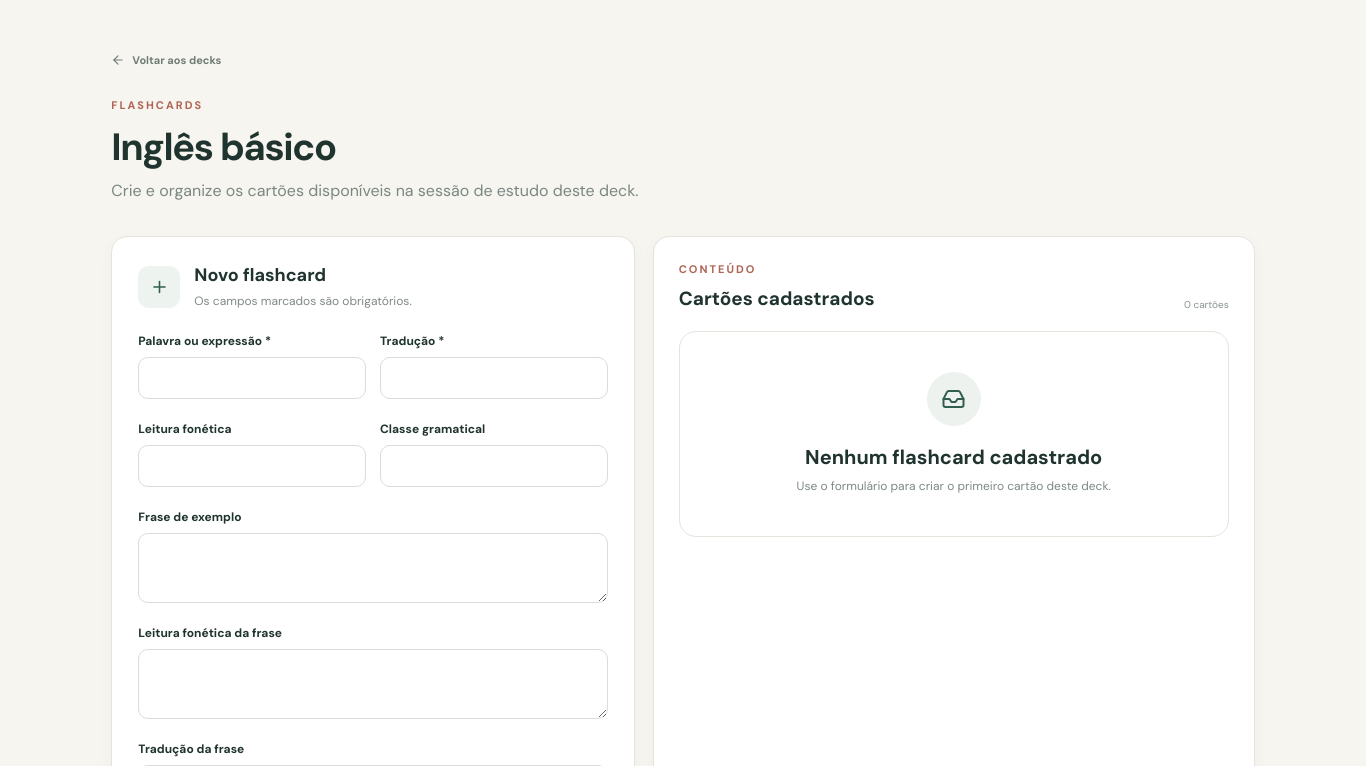
AdminFlashcardsPage › cria um flashcard e atualiza a lista
The image size is (1366, 766).
Expected: the heading "Inglês básico" is shown, 111,122 -> 336,172
In the field labelled "Palavra ou expressão *": (252, 378) 138,357 -> 366,399, type "hello"
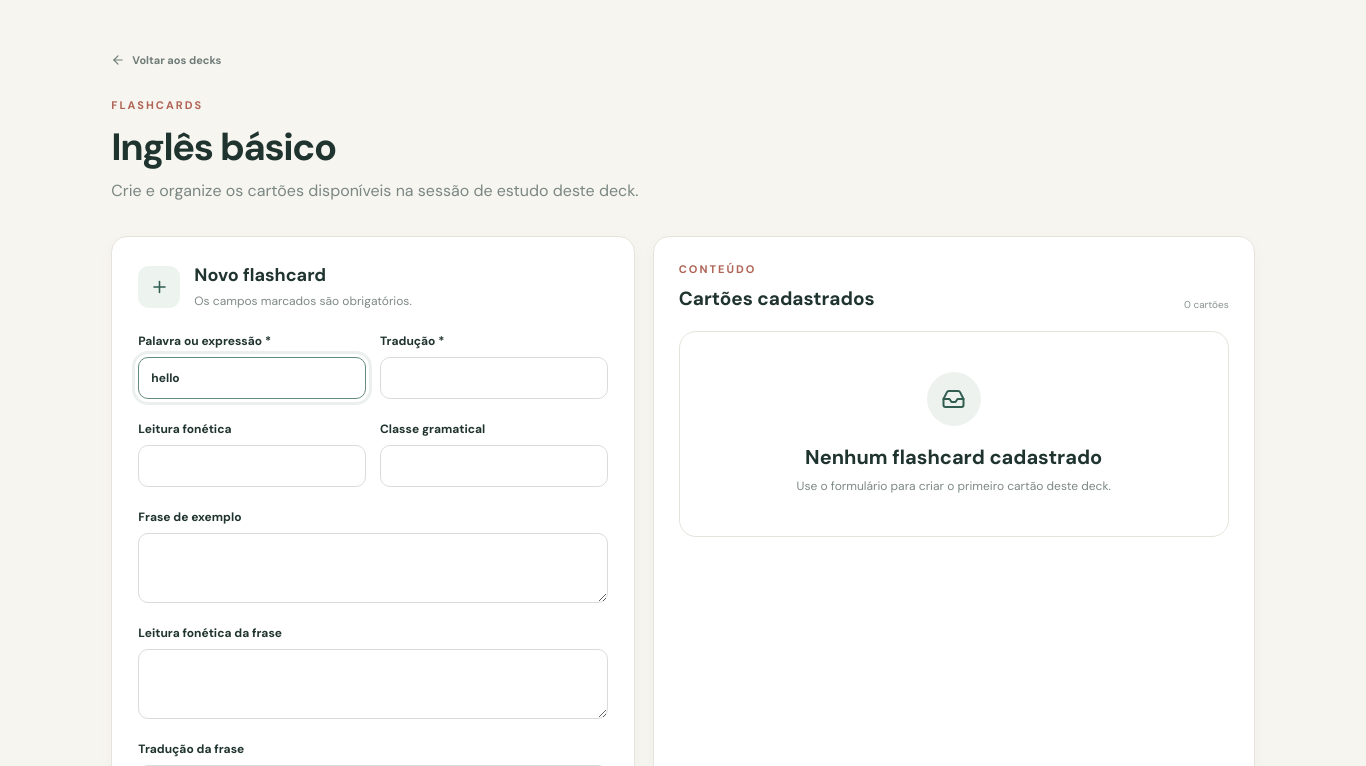
In the field labelled "Tradução *": (494, 378) 380,357 -> 608,399, type "olá"
(page scrolled)
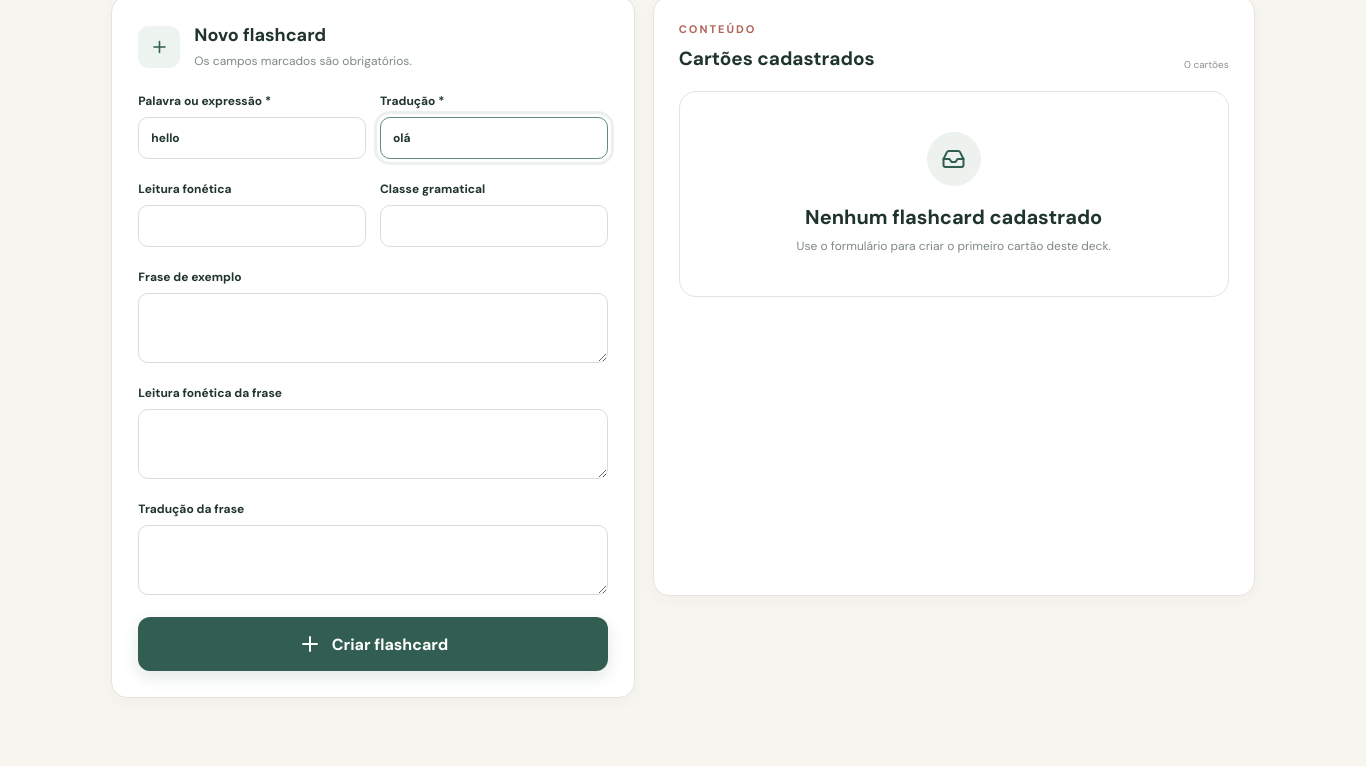
Click the button "Criar flashcard": (373, 644) 138,617 -> 608,671
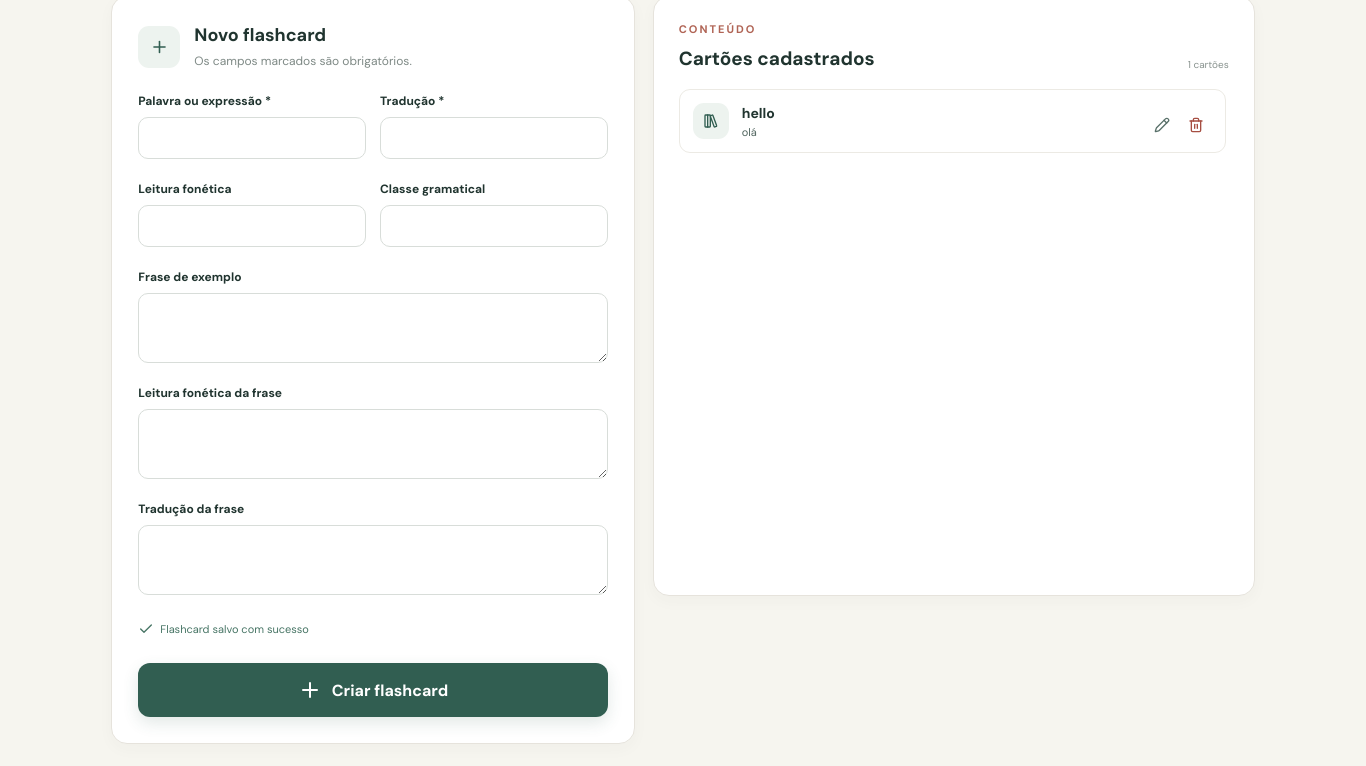
Expected: the heading "hello" is shown, 742,104 -> 775,122
Expected: the text "olá" is shown, 742,124 -> 757,138
